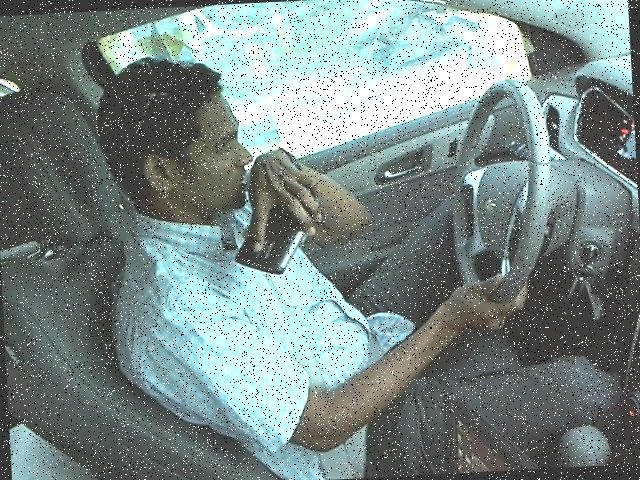c1 - Texting: (76, 27, 570, 461)
